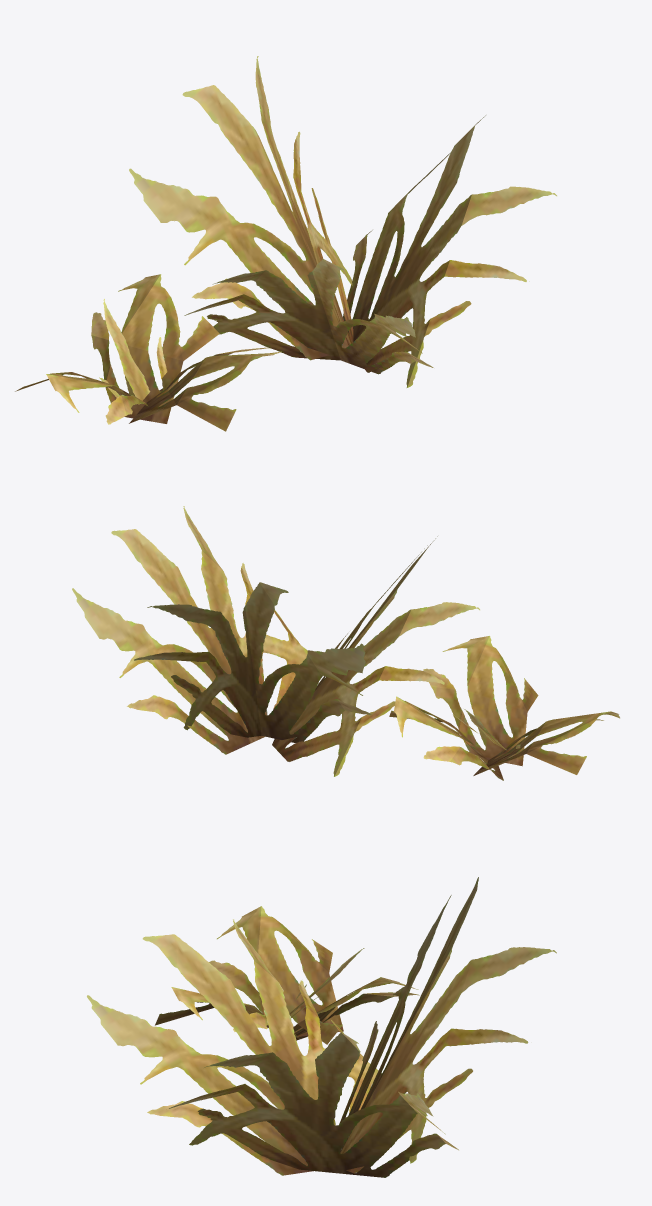
The model's file is YiJi_cao_01.fbx.
3 views of the same model, one above another, from view 1: azimuth 30°, elevation 25°; view 2: azimuth 150°, elevation 25°; view 3: azimuth 270°, elevation 25° (orthographic). The views are drawn at different scales.
Visible parts, largest first — view 1: YiJi_cao_01; view 2: YiJi_cao_01; view 3: YiJi_cao_01.
Boxes of the visible parts, <box> form: YiJi_cao_01: <box>15,56,556,431</box>; YiJi_cao_01: <box>72,506,619,780</box>; YiJi_cao_01: <box>87,877,556,1177</box>.
Size of the model in its own units: 2.04 by 0.9853 by 1.91.
